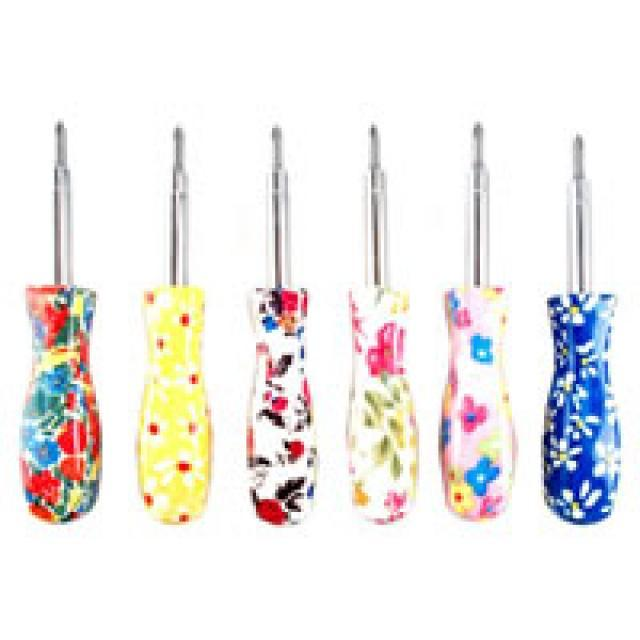screwdriver: (125, 120, 232, 534), (10, 111, 111, 527), (534, 127, 625, 528), (338, 124, 426, 528), (240, 122, 325, 538), (436, 119, 522, 526)
